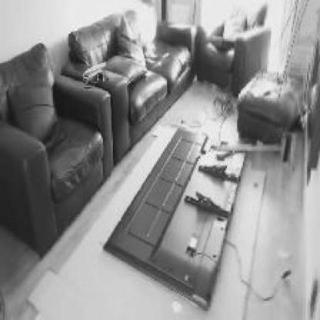other: (247, 187, 273, 223), (204, 119, 232, 137)
